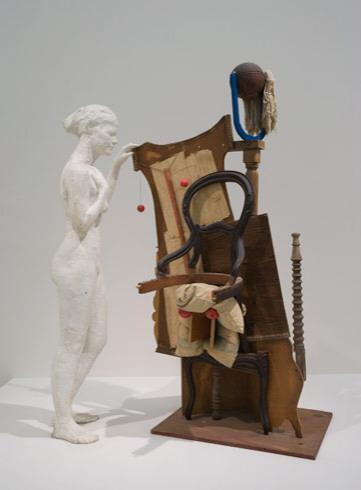person: (48, 102, 139, 446)
